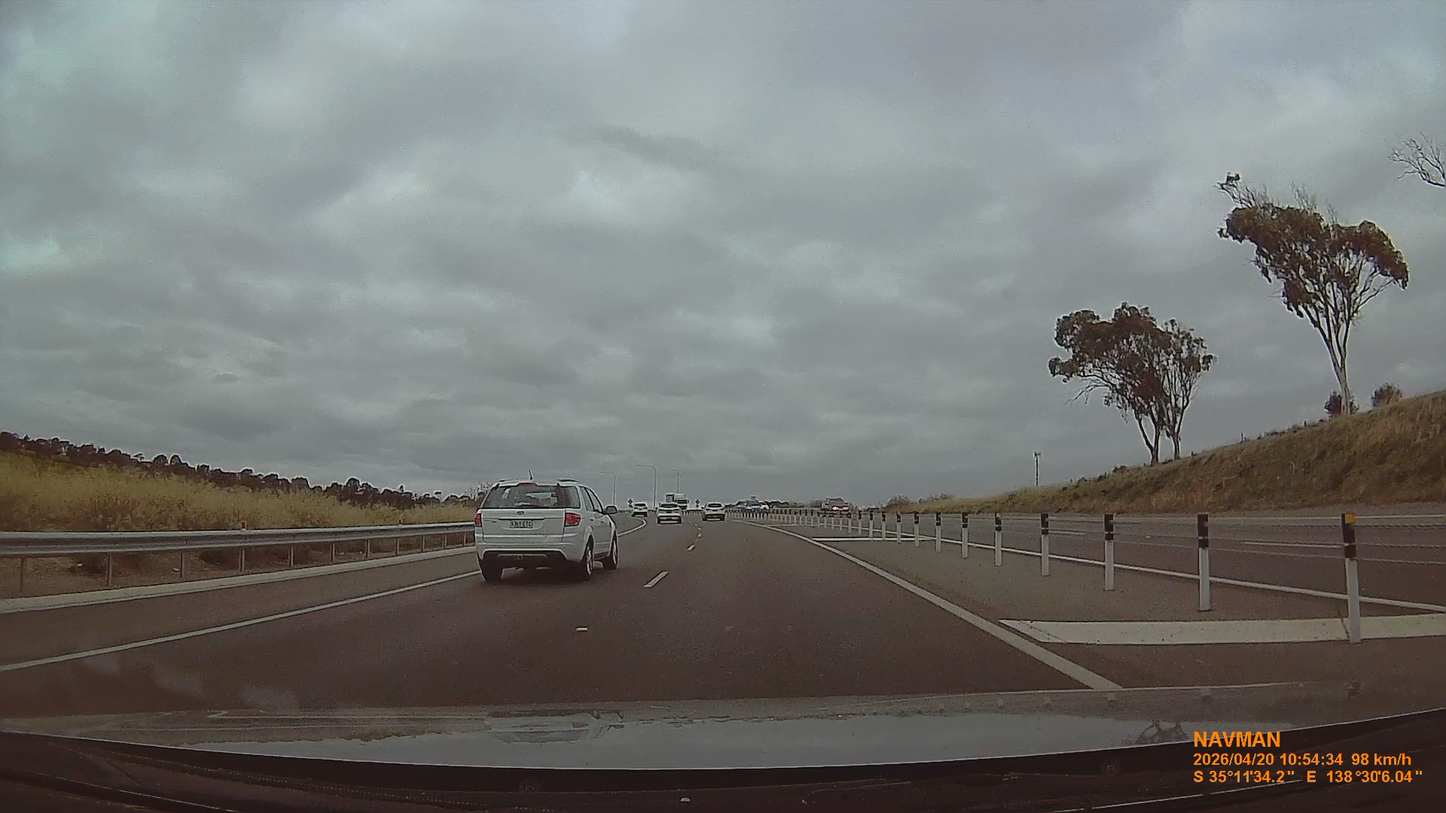road barriers: (2, 522, 474, 588), (1196, 513, 1211, 611), (1103, 514, 1114, 590), (1039, 513, 1050, 576), (993, 513, 1002, 567)
